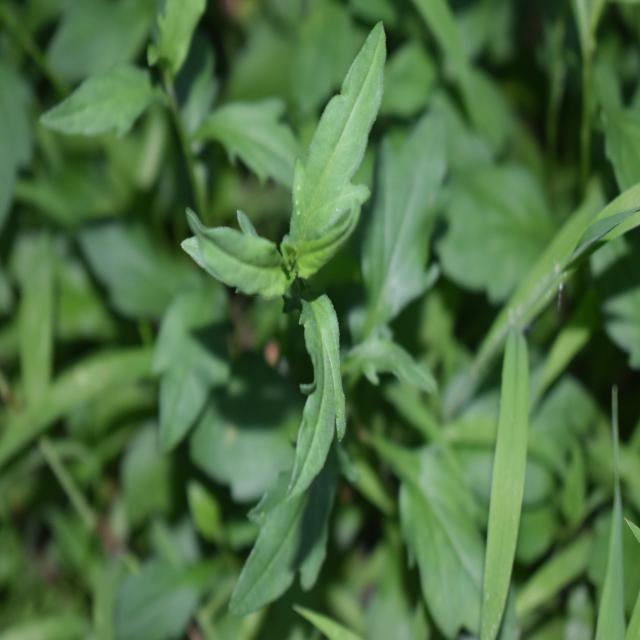Indian aster: (144, 37, 436, 519)
